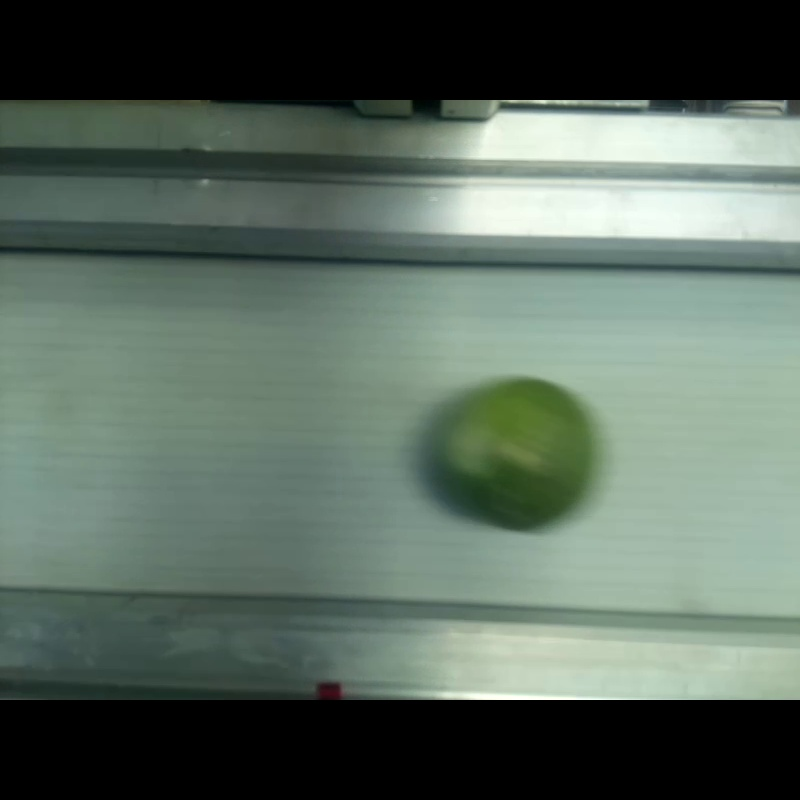lime: (433, 377, 589, 529)
